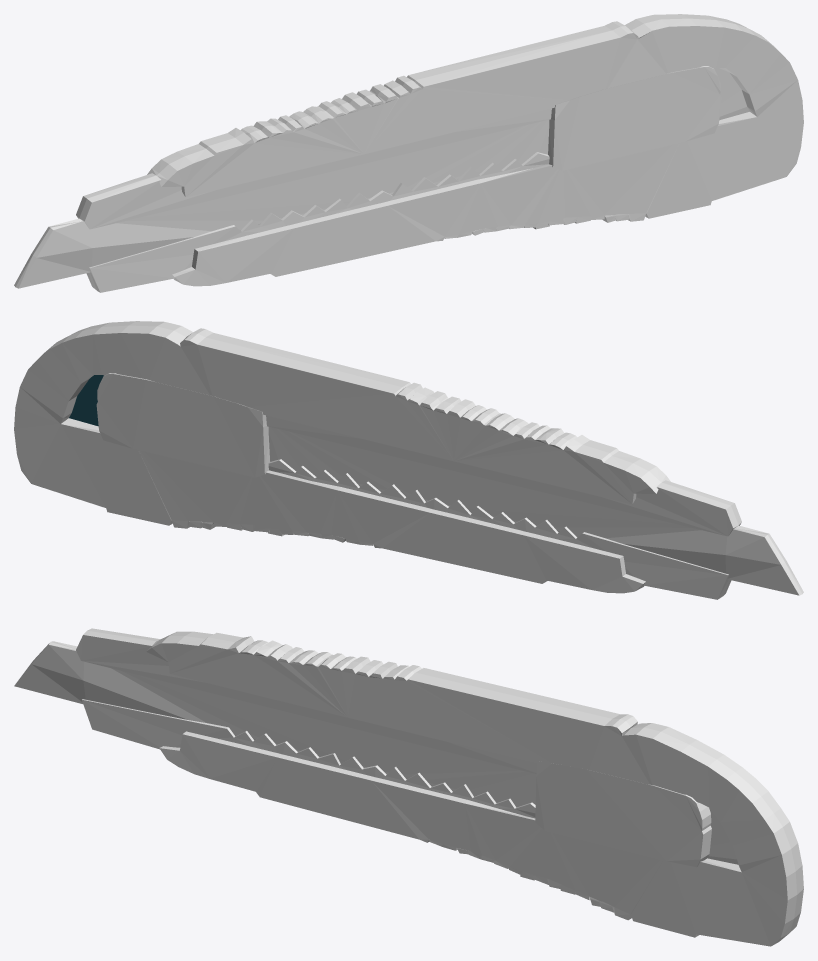
Rendered from Cutter.dae.
The picture shows the model from 3 angles, top to bottom: view 1: azimuth 30°, elevation 25°; view 2: azimuth 150°, elevation 25°; view 3: azimuth 330°, elevation 25°; orthographic projection.
Visible parts, largest first — view 1: Plane; view 2: Plane; view 3: Plane.
Boxes of the visible parts, x1,y1,x2,y2 form: Plane: [14, 14, 803, 292]; Plane: [14, 321, 803, 599]; Plane: [14, 628, 803, 946].
Size of the model in its own units: 3.35 by 0.1374 by 0.7941.
2 materials, 1 textured.
